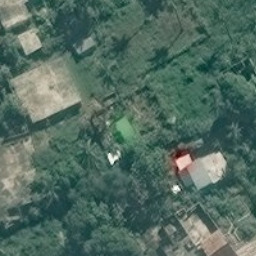buildings: (9, 55, 88, 126), (156, 204, 256, 256), (169, 142, 225, 200), (103, 111, 144, 156), (1, 1, 40, 30), (17, 30, 50, 59), (74, 35, 101, 58)
